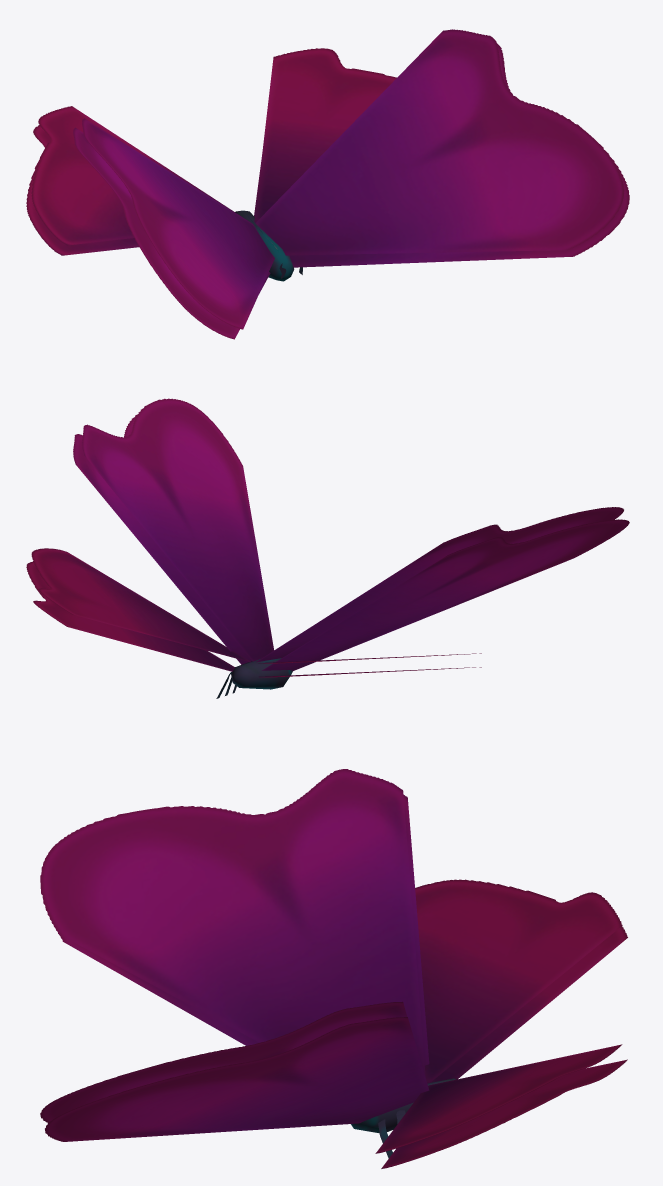
The model's file is SE_Butterfly_01.fbx.
3 renders of one model, top to bottom at view 1: azimuth 30°, elevation 25°; view 2: azimuth 150°, elevation 25°; view 3: azimuth 270°, elevation 25°, orthographic. The views are drawn at different scales.
Parts seen in each view (by area): view 1: SE_Butterfly_01; view 2: SE_Butterfly_01; view 3: SE_Butterfly_01.
Part boxes in pixels (x1,y1,x2,y2): SE_Butterfly_01: (26, 29, 629, 339); SE_Butterfly_01: (26, 398, 629, 698); SE_Butterfly_01: (40, 769, 627, 1168).
Size of the model in its own units: 1.6 by 0.7008 by 1.48.
